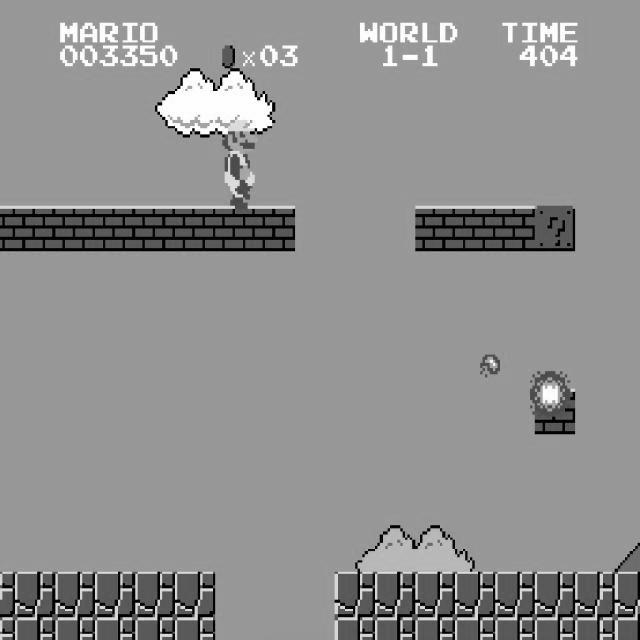1- brick_block: (534, 388, 576, 434), (54, 206, 96, 251), (94, 206, 136, 251), (134, 206, 176, 251), (174, 206, 216, 251), (214, 206, 256, 251), (254, 206, 296, 251), (414, 206, 456, 251), (454, 206, 496, 251), (494, 206, 536, 251), (15, 206, 56, 251), (0, 206, 15, 251)
13- mystery_block: (534, 206, 576, 251)
17- undestructible_block: (54, 572, 96, 618), (94, 572, 136, 618), (134, 572, 176, 618), (174, 572, 216, 618), (334, 572, 376, 618), (374, 572, 416, 618), (414, 572, 456, 618), (454, 572, 496, 618), (494, 572, 536, 618), (534, 572, 576, 618), (574, 572, 616, 618), (15, 572, 56, 618), (614, 571, 640, 617), (54, 617, 96, 640), (94, 617, 136, 640), (134, 617, 176, 640), (174, 617, 216, 640), (334, 617, 376, 640), (374, 617, 416, 640), (414, 617, 456, 640), (454, 617, 496, 640), (494, 617, 536, 640), (534, 617, 576, 640), (574, 617, 616, 640), (15, 617, 56, 640), (0, 572, 15, 618), (614, 617, 640, 639), (0, 617, 15, 640)
4- fire_mario: (218, 114, 260, 208)
5- fireball: (480, 352, 500, 378)
